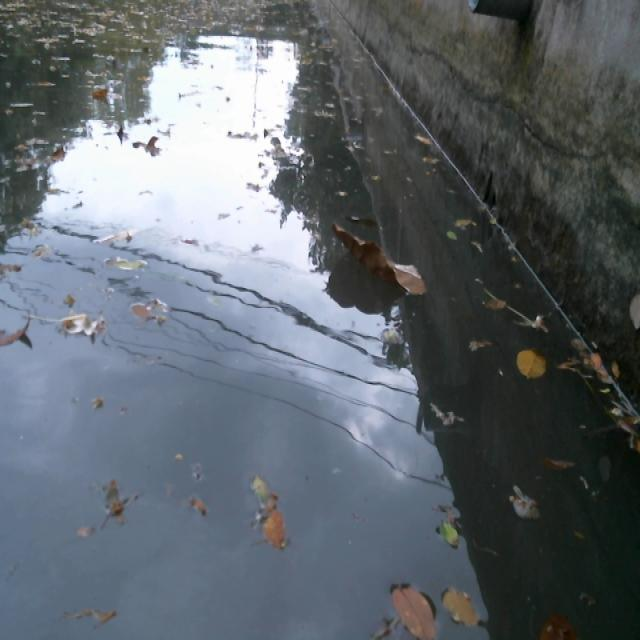Big-leaf: (325, 216, 432, 306)
Small-leaf: (385, 578, 442, 640), (436, 583, 485, 629), (56, 309, 110, 344), (511, 339, 551, 384), (99, 476, 133, 527), (535, 606, 585, 640), (0, 305, 35, 353), (99, 247, 153, 275), (502, 489, 543, 525), (261, 502, 289, 553), (92, 224, 142, 247), (538, 448, 581, 474), (435, 513, 463, 551), (245, 470, 275, 505), (128, 299, 162, 323), (464, 332, 500, 354), (128, 131, 162, 152), (190, 490, 208, 521), (43, 141, 68, 163), (451, 212, 478, 232), (478, 295, 510, 311), (72, 522, 101, 539), (88, 84, 111, 104), (242, 175, 265, 194), (28, 242, 54, 258), (414, 133, 435, 148), (445, 226, 458, 248)
